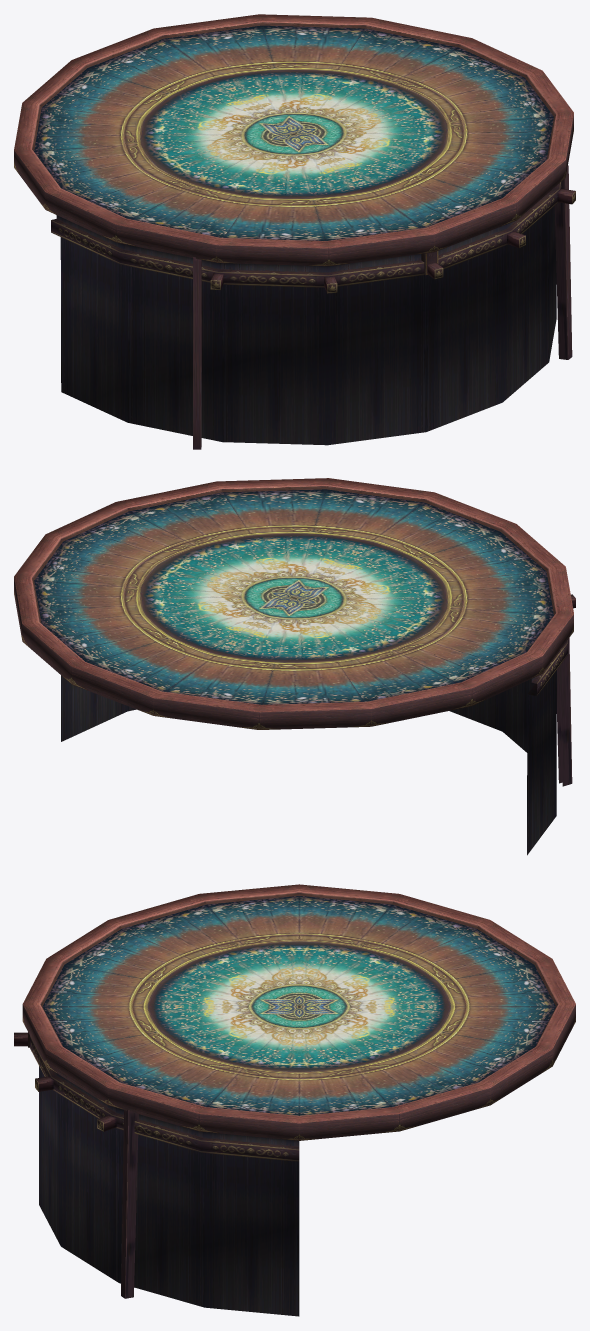
The model's file is G_Center.FBX.
The picture shows the model from 3 angles, top to bottom: view 1: azimuth 30°, elevation 25°; view 2: azimuth 150°, elevation 25°; view 3: azimuth 270°, elevation 25°; orthographic projection.
Visible parts, largest first — view 1: TQT_1, TQT_Face; view 2: TQT_Face, TQT_1; view 3: TQT_Face, TQT_1.
Part boxes in pixels (x1,y1,x2,y2): TQT_1: (14,14,575,449); TQT_Face: (34,25,553,240); TQT_Face: (34,489,553,704); TQT_1: (14,478,575,855); TQT_Face: (42,896,555,1115); TQT_1: (14,884,575,1316).
Bounding box in the file's own units: 1436 × 574 × 1428.
